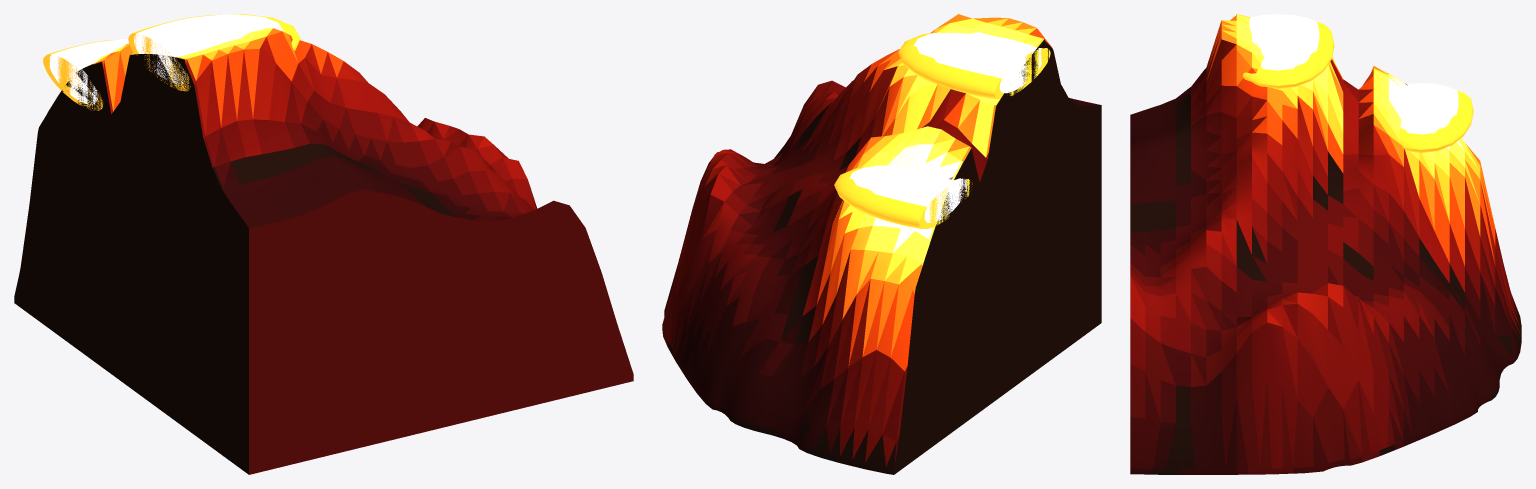
Rendered from lava_grub_r_t4.glb.
3 renders of one model, left to right at view 1: azimuth 30°, elevation 25°; view 2: azimuth 150°, elevation 25°; view 3: azimuth 270°, elevation 25°, orthographic. The views are drawn at different scales.
Visible parts, largest first — view 1: lava_grub_r_t4_grub_body, lava_grub_r_t4_grub_eye1, lava_grub_r_t4_grub_eye0, lava_grub_r_t4_grub_eye_rim1, lava_grub_r_t4_grub_eye_rim0; view 2: lava_grub_r_t4_grub_body, lava_grub_r_t4_grub_eye1, lava_grub_r_t4_grub_eye0, lava_grub_r_t4_grub_eye_rim1, lava_grub_r_t4_grub_eye_rim0; view 3: lava_grub_r_t4_grub_body, lava_grub_r_t4_grub_eye1, lava_grub_r_t4_grub_eye0, lava_grub_r_t4_grub_eye_rim1, lava_grub_r_t4_grub_eye_rim0.
Part boxes in pixels (<box>): lava_grub_r_t4_grub_body: <box>14,28,633,474</box>; lava_grub_r_t4_grub_eye1: <box>134,14,282,84</box>; lava_grub_r_t4_grub_eye0: <box>49,39,128,104</box>; lava_grub_r_t4_grub_eye_rim1: <box>128,14,300,91</box>; lava_grub_r_t4_grub_eye_rim0: <box>43,40,114,110</box>; lava_grub_r_t4_grub_body: <box>662,14,1101,474</box>; lava_grub_r_t4_grub_eye1: <box>913,32,1041,93</box>; lava_grub_r_t4_grub_eye0: <box>850,165,966,222</box>; lava_grub_r_t4_grub_eye_rim1: <box>898,33,1050,99</box>; lava_grub_r_t4_grub_eye_rim0: <box>834,166,972,228</box>; lava_grub_r_t4_grub_body: <box>1130,14,1521,474</box>; lava_grub_r_t4_grub_eye1: <box>1249,14,1319,70</box>; lava_grub_r_t4_grub_eye0: <box>1400,83,1458,134</box>; lava_grub_r_t4_grub_eye_rim1: <box>1243,22,1334,88</box>; lava_grub_r_t4_grub_eye_rim0: <box>1399,90,1473,152</box>.
Size of the model in its own units: 16.99 by 15.67 by 17.99.
